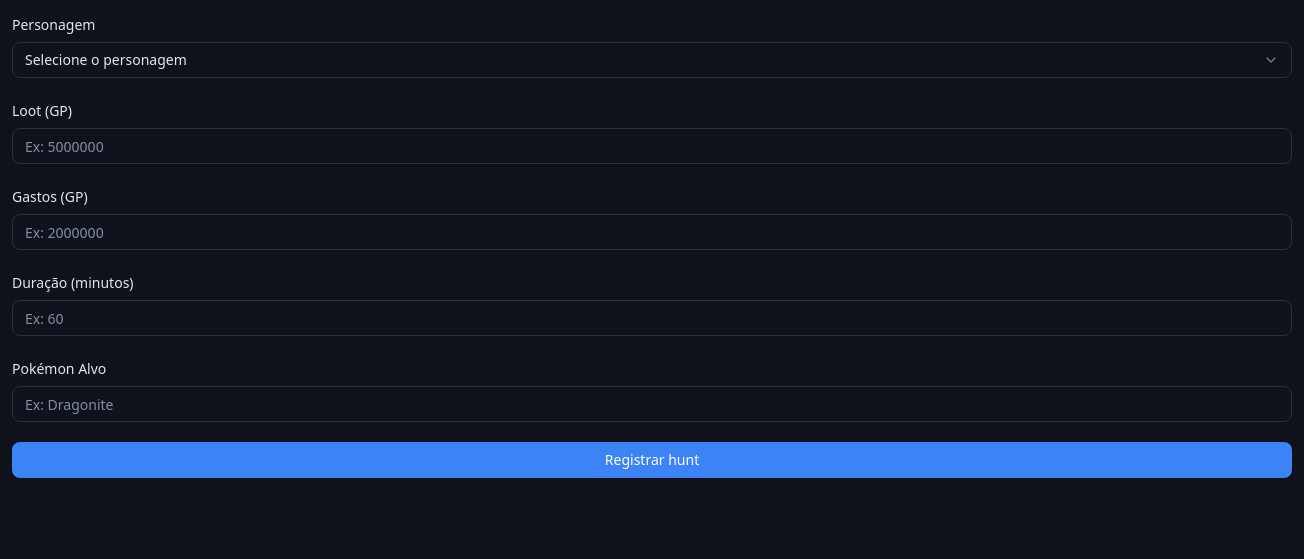
it: HuntForm (US03 — AC: Formulário de hunt) › Preview dinâmico de GP (US03 AC Frontend) › deve mostrar prejuízo quando gastos > loot
Type "1000000" into the number field labelled "Loot (GP)" at (652, 146), box x1=12 y1=128 x2=1292 y2=164
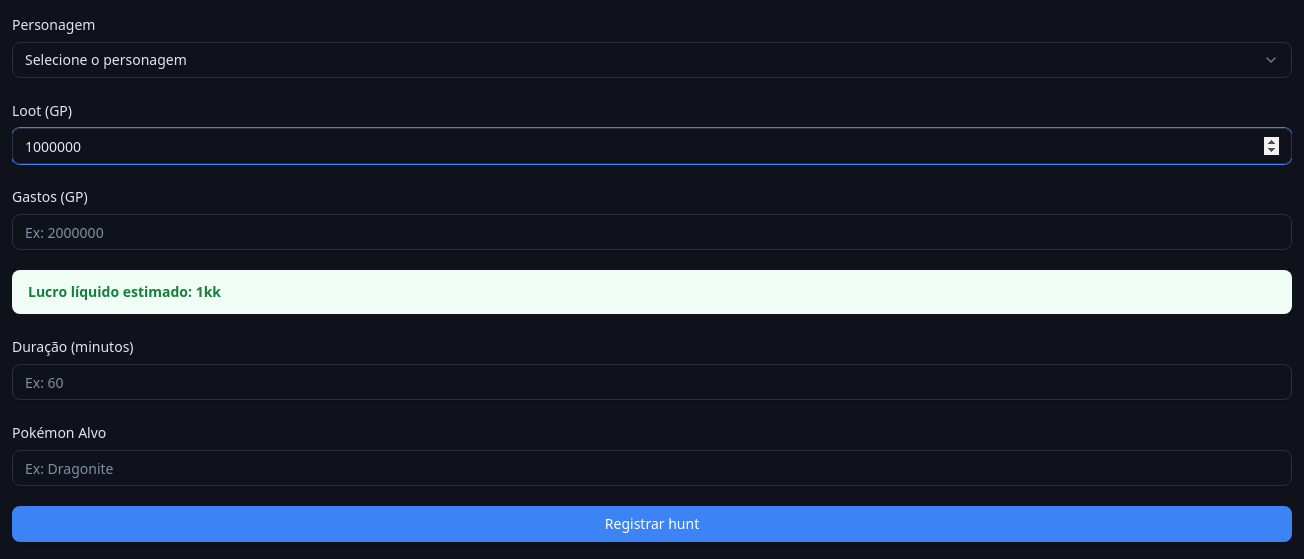
Type "3000000" into the number field labelled "Gastos (GP)" at (652, 232), box x1=12 y1=214 x2=1292 y2=250
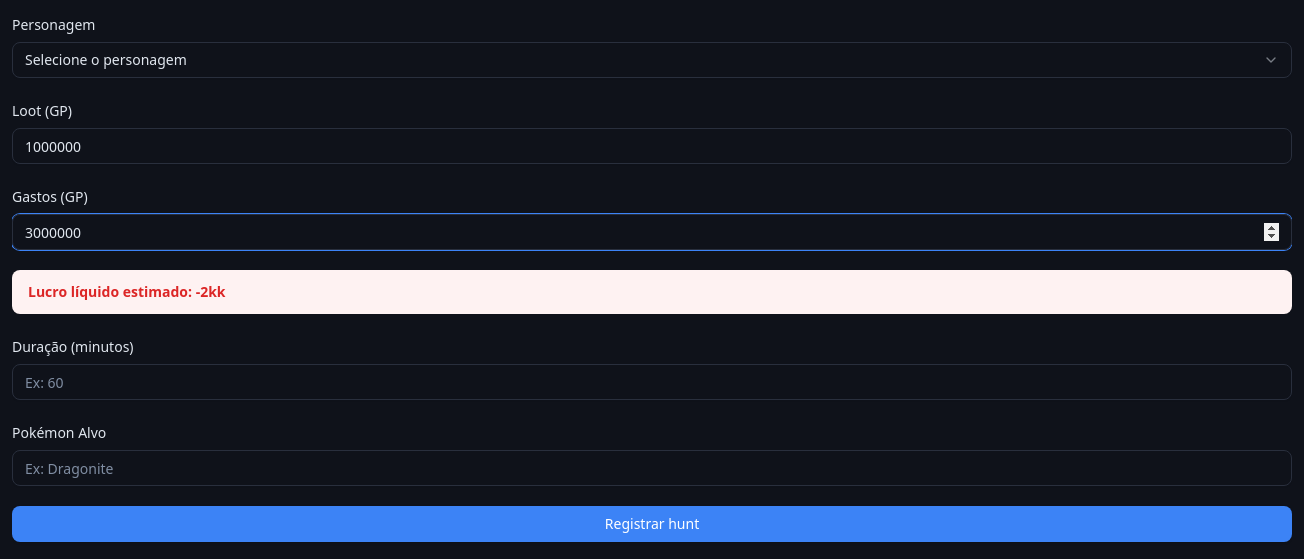
expect the element with test id "hunt-preview" shows "-": met, box x1=12 y1=270 x2=1292 y2=314
